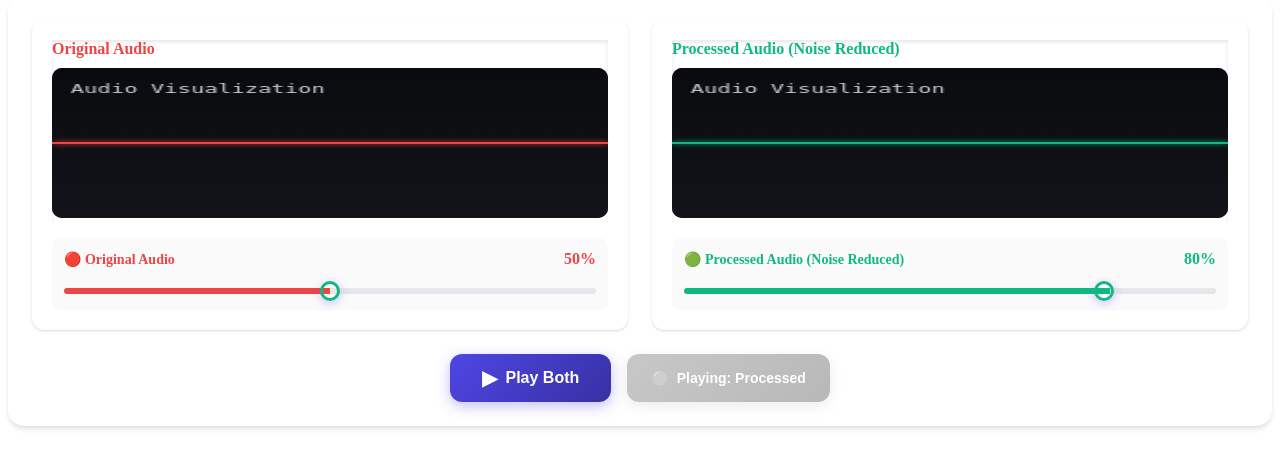
SyncedWaveforms › uses local state for playback control
Click the button with aria-label "Play synchronized playback".
click(531, 378)  # box [450,354,611,402]
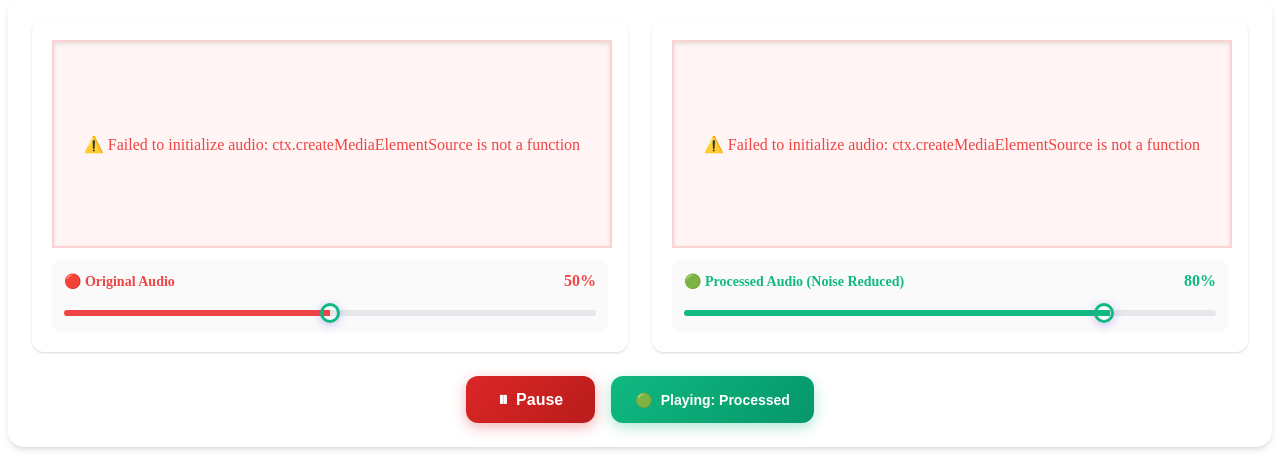
Expected: the button with aria-label "Pause synchronized playback" is shown, [466,376,595,423]
